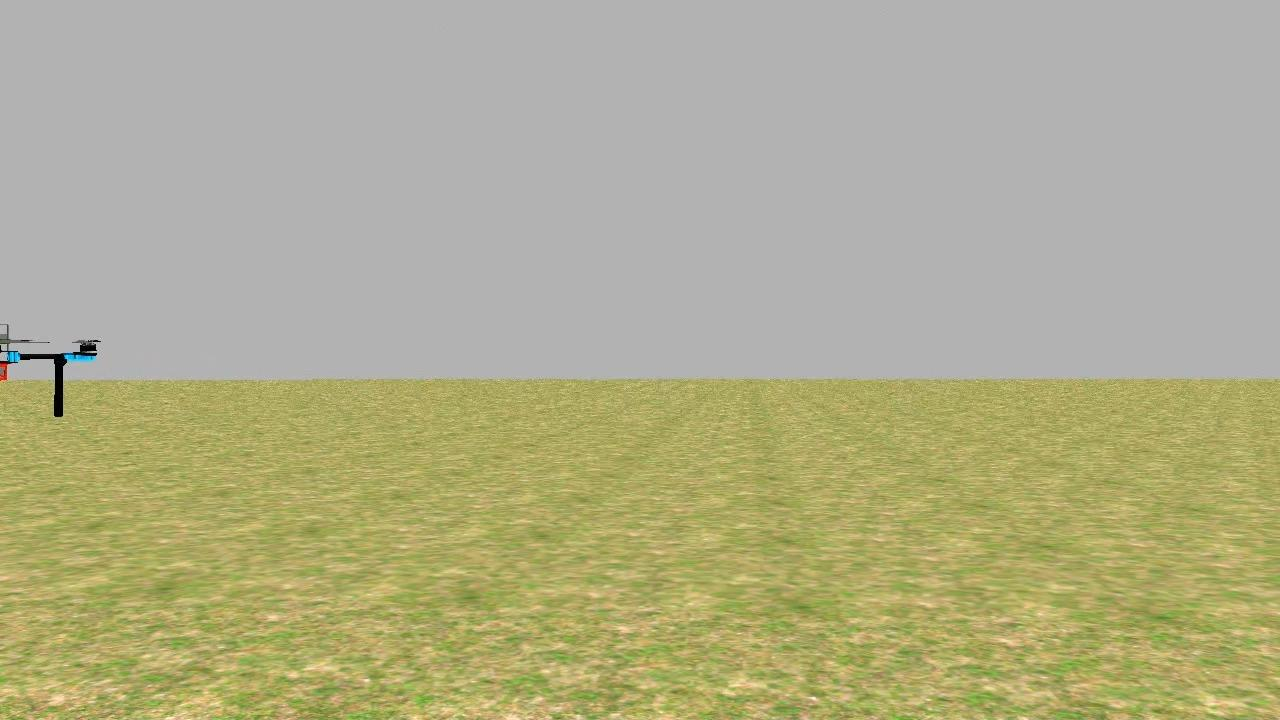UAV: (0, 308, 106, 435)
